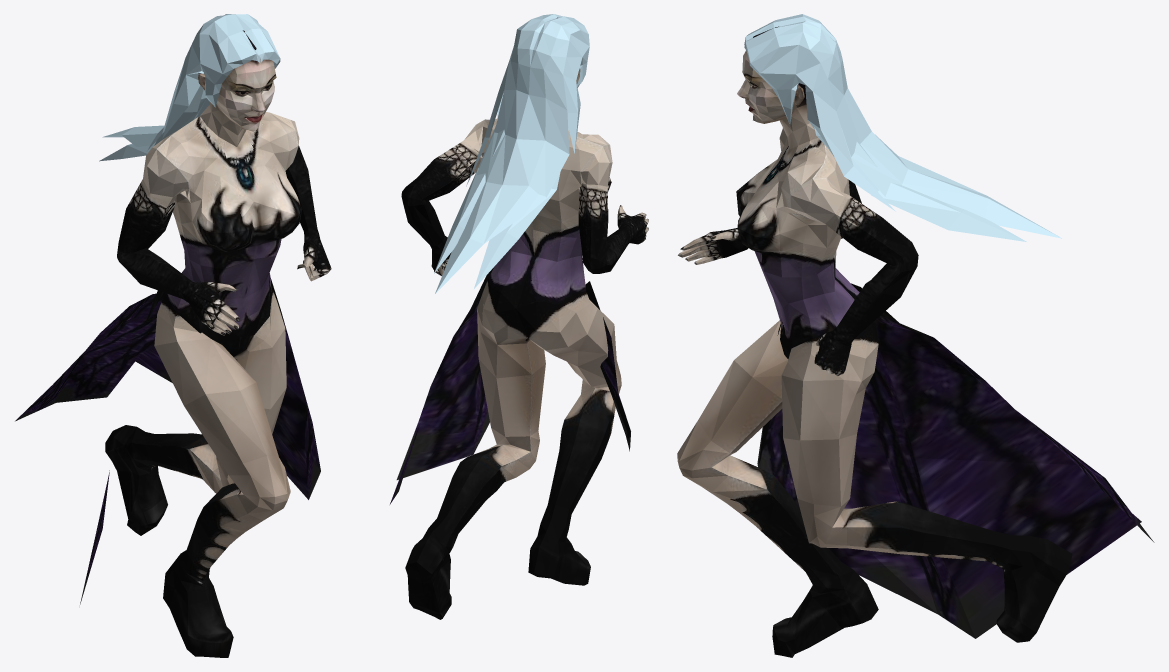
Rendered from running_017.obj.
The picture shows the model from 3 angles, left to right: view 1: azimuth 30°, elevation 25°; view 2: azimuth 150°, elevation 25°; view 3: azimuth 270°, elevation 25°; orthographic projection. The views are drawn at different scales.
Visible parts, largest first — view 1: Plane.001_Plane.007, Plane.003_Plane.008, capelli.001_Plane.006; view 2: Plane.001_Plane.007, capelli.001_Plane.006, Plane.003_Plane.008; view 3: Plane.001_Plane.007, Plane.003_Plane.008, capelli.001_Plane.006.
Part boxes in pixels (x1,y1,x2,y2): Plane.001_Plane.007: (105, 30, 331, 657); Plane.003_Plane.008: (15, 278, 320, 604); capelli.001_Plane.006: (99, 14, 280, 161); Plane.001_Plane.007: (401, 17, 648, 619); capelli.001_Plane.006: (434, 14, 589, 293); Plane.003_Plane.008: (390, 267, 630, 504); Plane.001_Plane.007: (677, 26, 1072, 657); Plane.003_Plane.008: (757, 283, 1154, 638); capelli.001_Plane.006: (744, 14, 1061, 241).
Bounding box in the file's own units: 1.71 × 5.04 × 3.34.
